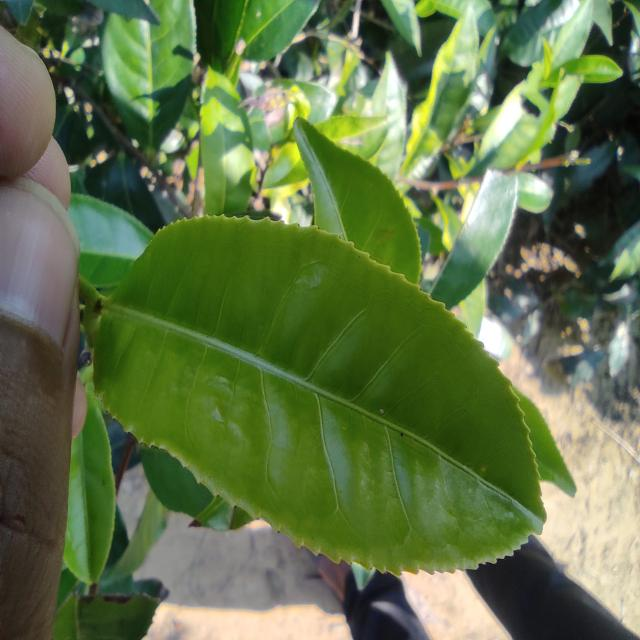Category C 4-7 days: (78, 190, 560, 584)
